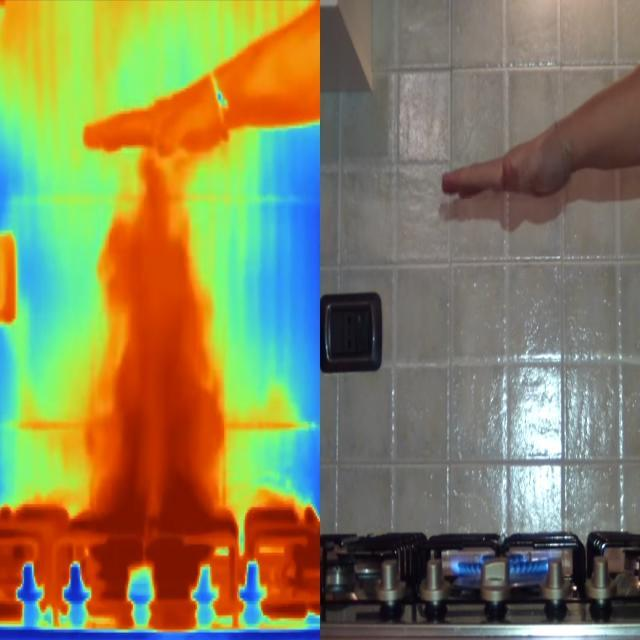fire: (82, 487, 225, 626)
